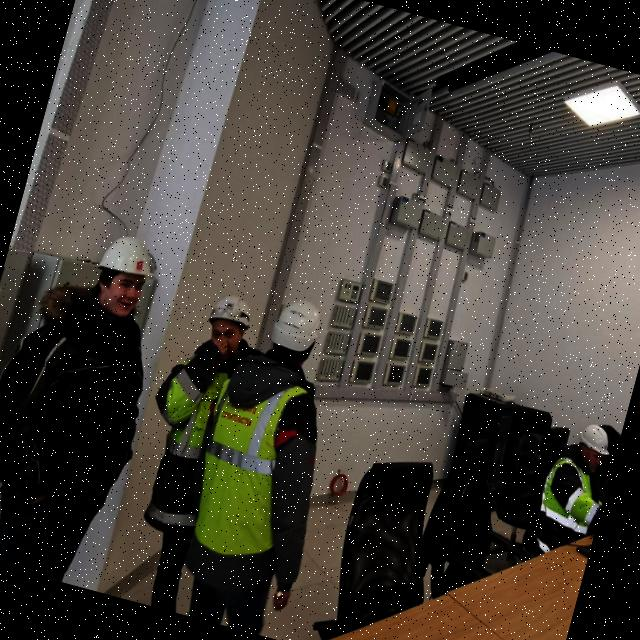Helmet: (86, 233, 162, 328), (266, 297, 331, 366), (200, 290, 259, 363), (569, 422, 615, 476)
